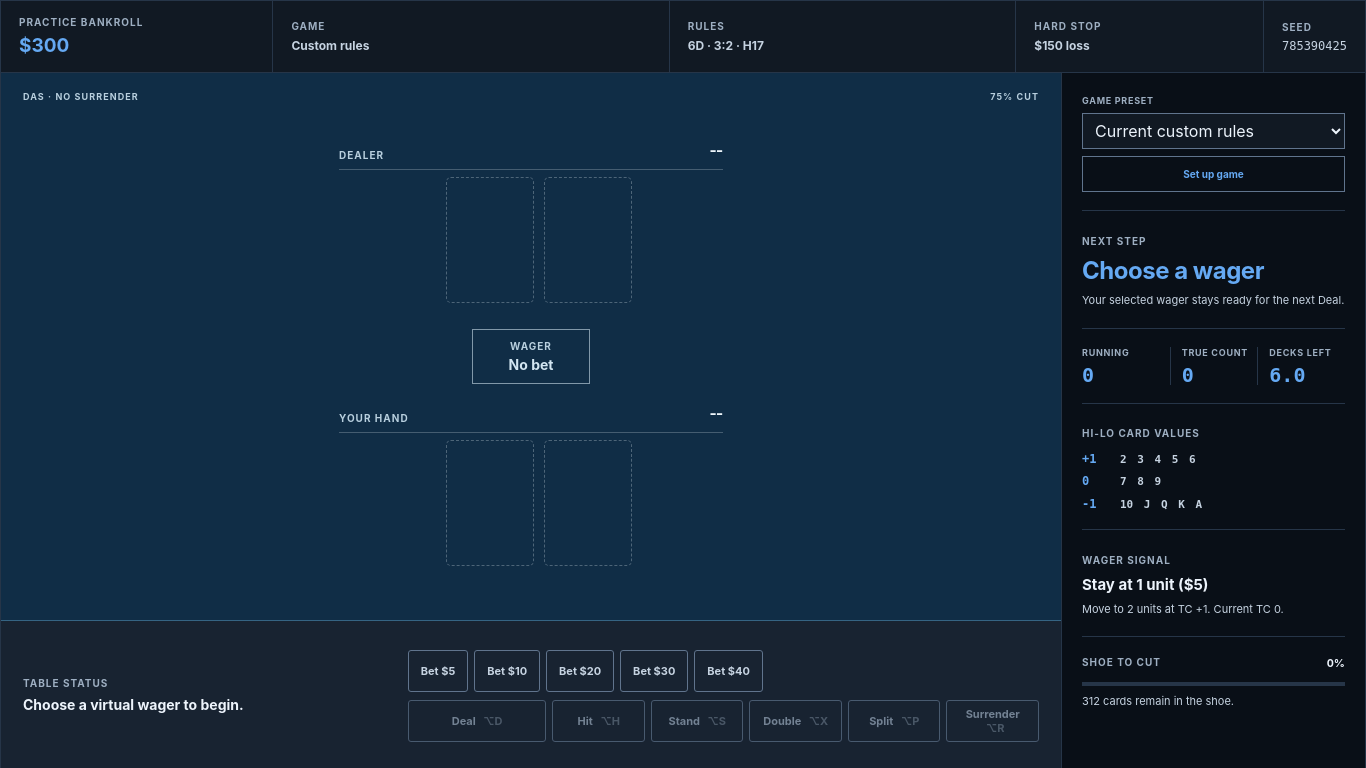
BlackjackTable › handles macOS Option shortcuts by their physical key code
Click the button "Bet $5": (438, 671) [408, 650, 468, 692]
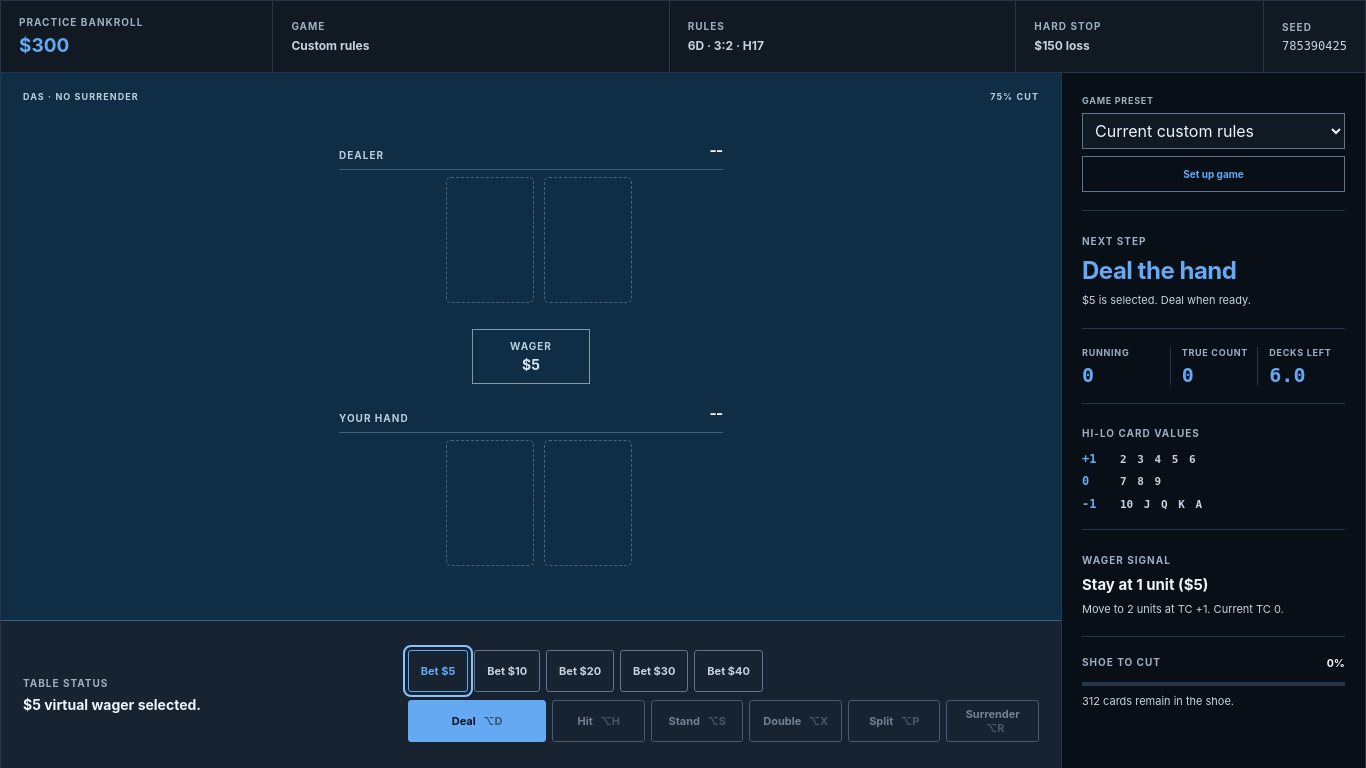
Press ∂ in the button "Bet $5", box [408, 650, 468, 692]
(page scrolled)
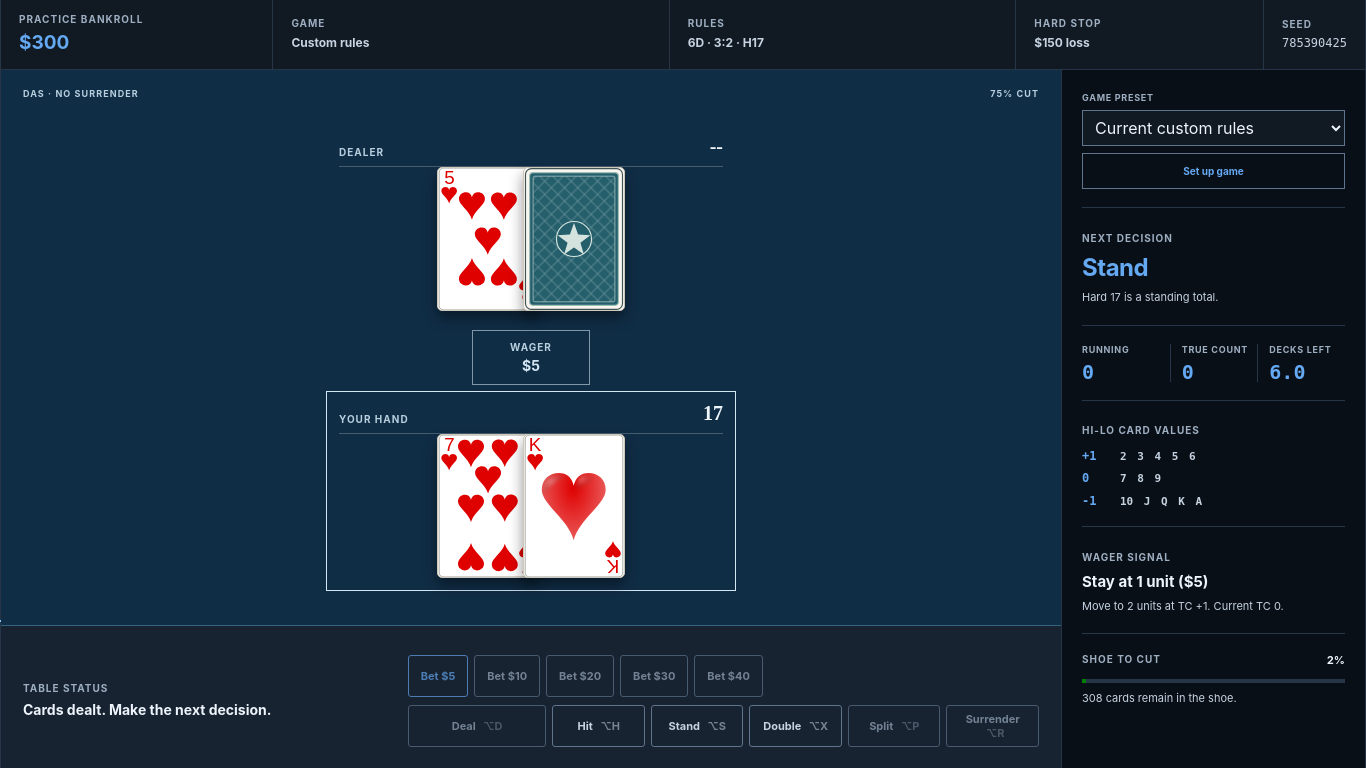
expect the number of elements with test id "player-card" is 2: met, box [437, 434, 539, 578]; [523, 434, 625, 578]
